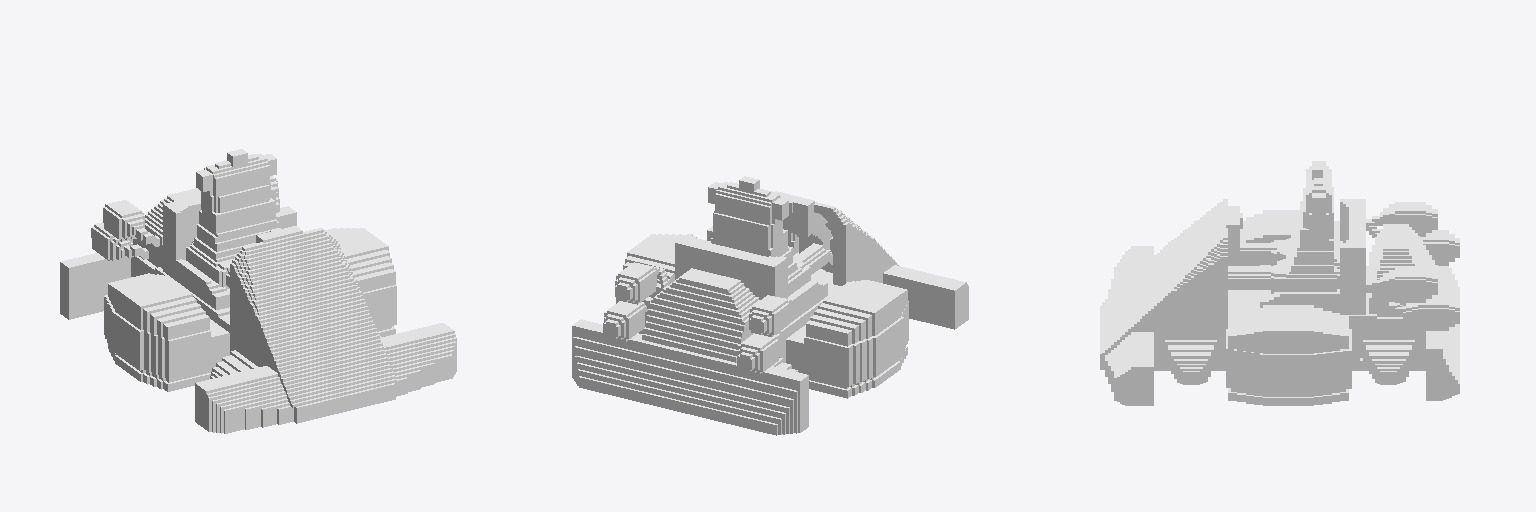
Rendered from Kart2.obj.
3 views of the same model, side by side, from view 1: azimuth 30°, elevation 25°; view 2: azimuth 150°, elevation 25°; view 3: azimuth 270°, elevation 25° (orthographic).
Parts seen in each view (by area): view 1: object 1; view 2: object 1; view 3: object 1.
Boxes of the visible parts, x1,y1,x2,y2 form: object 1: [60, 149, 456, 433]; object 1: [572, 176, 968, 435]; object 1: [1100, 161, 1459, 405].
Size of the model in its own units: 10.2 by 6.9 by 12.6.